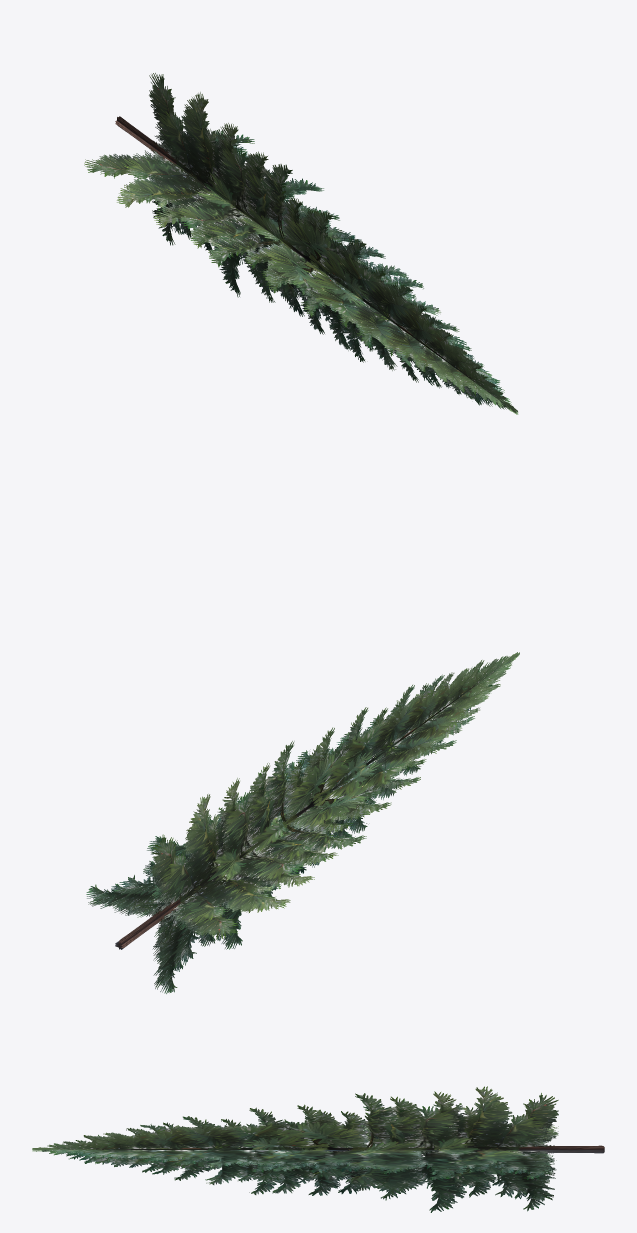
The model's file is pine_tree.obj.
The picture shows the model from 3 angles, top to bottom: view 1: azimuth 30°, elevation 25°; view 2: azimuth 150°, elevation 25°; view 3: azimuth 270°, elevation 25°; orthographic projection. The views are drawn at different scales.
Visible parts, largest first — view 1: Plane; view 2: Plane; view 3: Plane.
Part boxes in pixels (x1,y1,x2,y2): Plane: [84, 73, 518, 414]; Plane: [86, 652, 519, 993]; Plane: [32, 1086, 604, 1212].
Bounding box in the file's own units: 1 × 1 × 4.
1 material, 1 textured.
